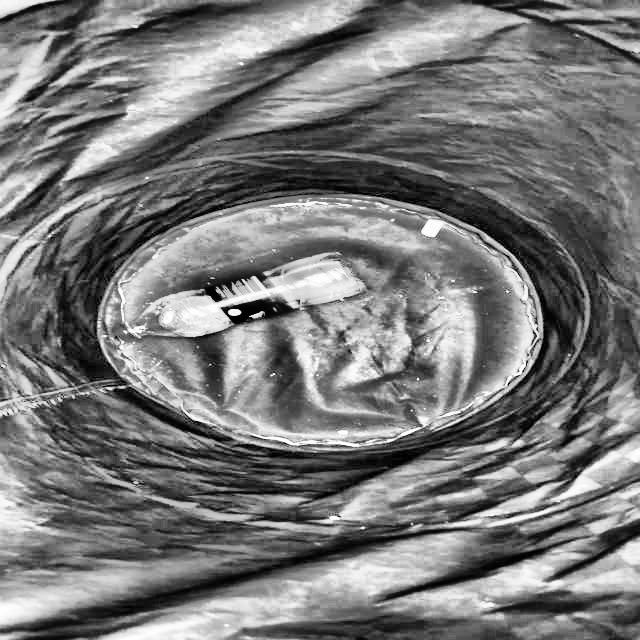Bottle-Disposed: (82, 174, 584, 464)
